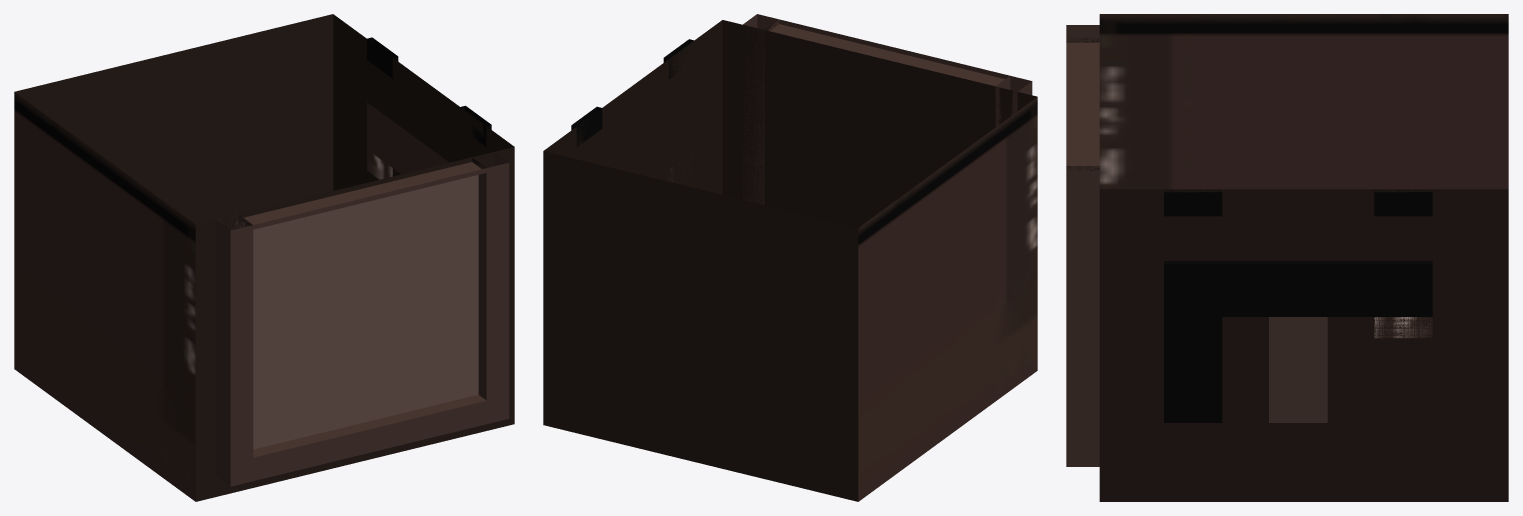
File: section-1.obj
The picture shows the model from 3 angles, left to right: view 1: azimuth 30°, elevation 25°; view 2: azimuth 150°, elevation 25°; view 3: azimuth 270°, elevation 25°; orthographic projection. The views are drawn at different scales.
Size of the model in its own units: 0.722 by 0.59 by 0.757.
